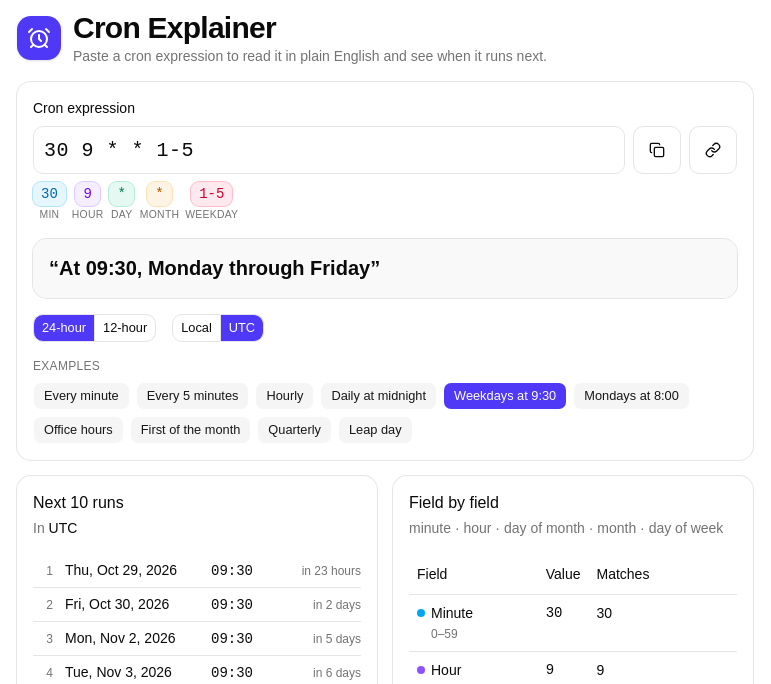
Test: display › toggles a 12-hour clock with a click or T
Click the button "12-hour". click: x=126, y=328
box: [95,314,156,342]
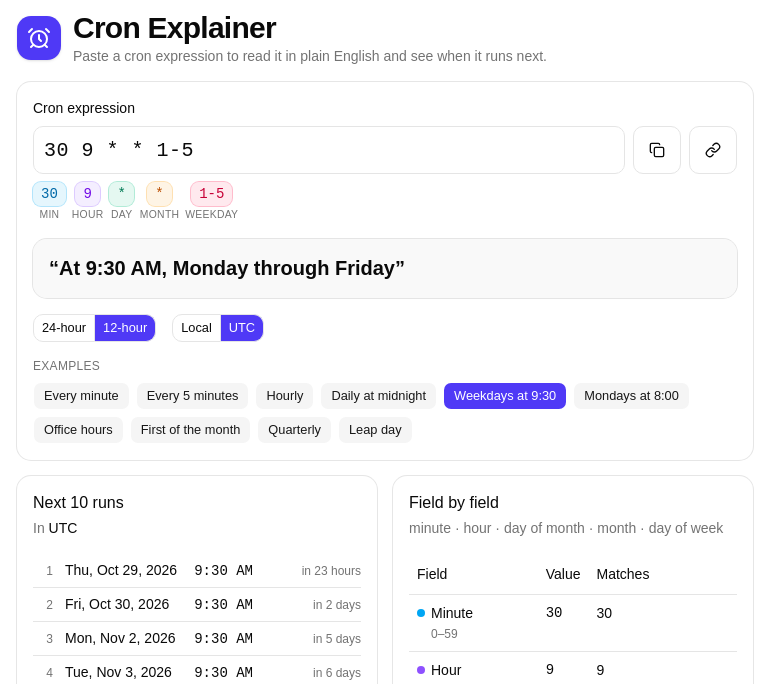
Now the text with test id "explanation" reads "“At 9:30 AM, Monday through Friday”", box [49,257,405,279]
Now the list item "1 Thu, Oct 29, 2026 9:30 AM in 23 hours" is shown, box [33,554,361,588]
Press t
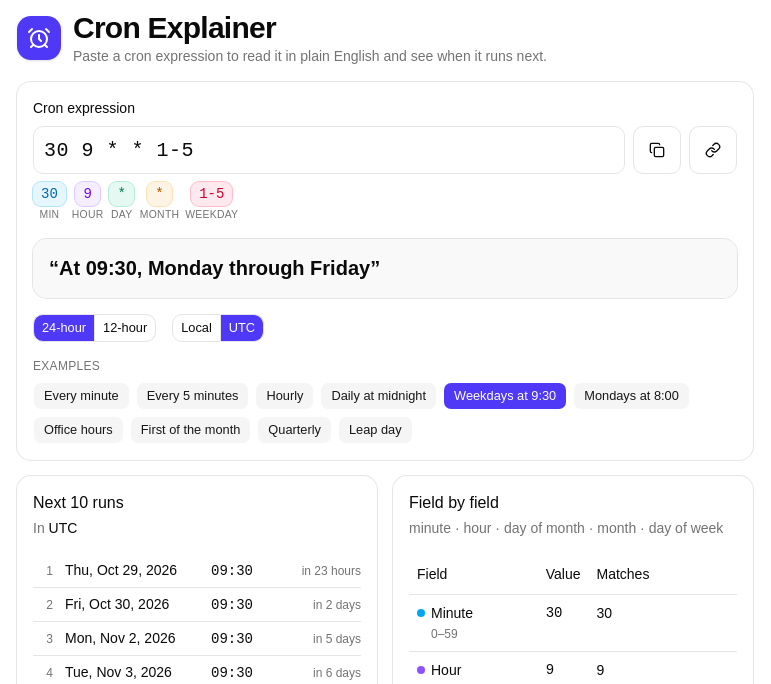
Now the text with test id "explanation" reads "“At 09:30, Monday through Friday”", box [49,257,380,279]
